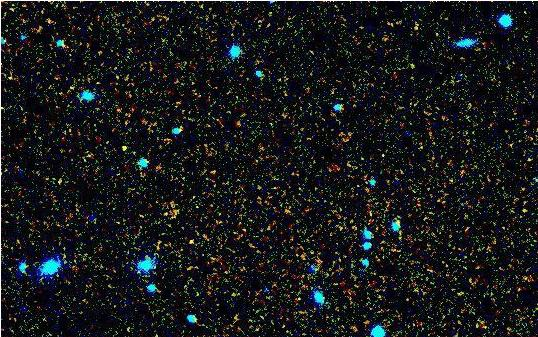star: (108, 131, 138, 161)
